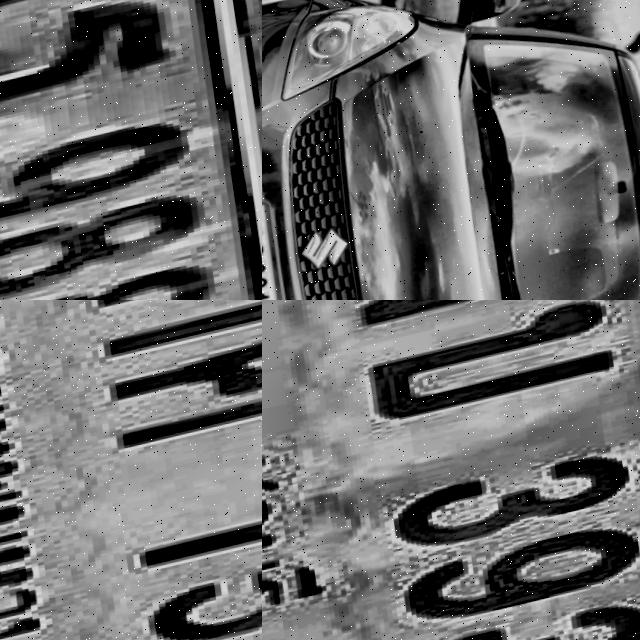license-plate: (262, 300, 640, 640), (0, 300, 262, 640), (0, 0, 262, 300), (262, 202, 292, 300)
